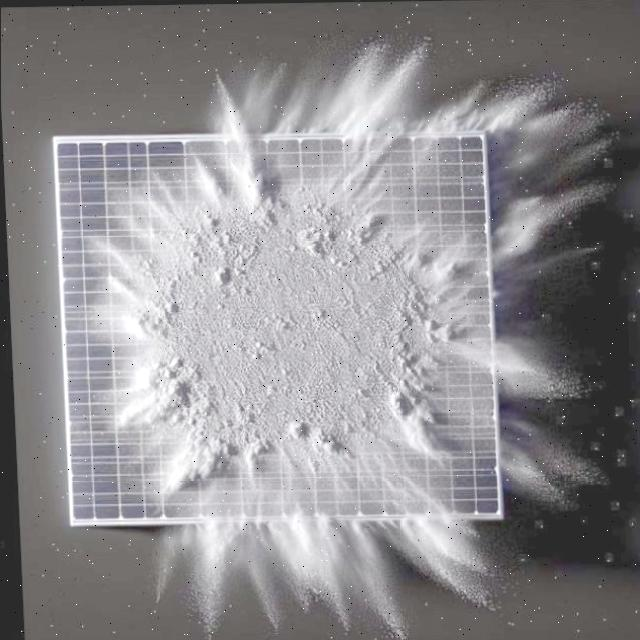Anomaly Solar Panel: (52, 134, 495, 522)
Surface Contaminant: (53, 137, 494, 518)
